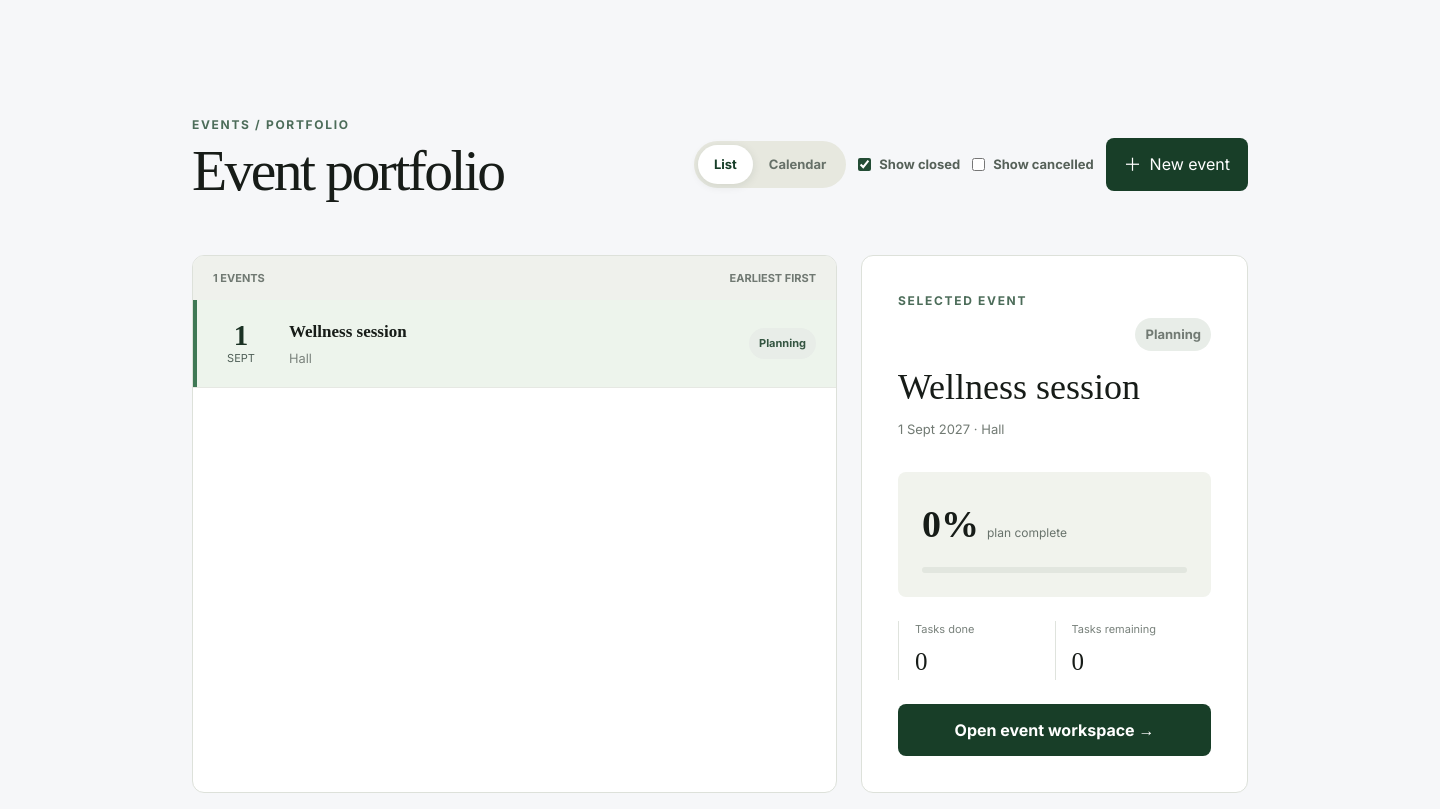
Test case: API-backed organizer events › requires the exact Event name before permanent deletion
Click the button "Open event workspace →": (1054, 730) 898,704 -> 1211,756
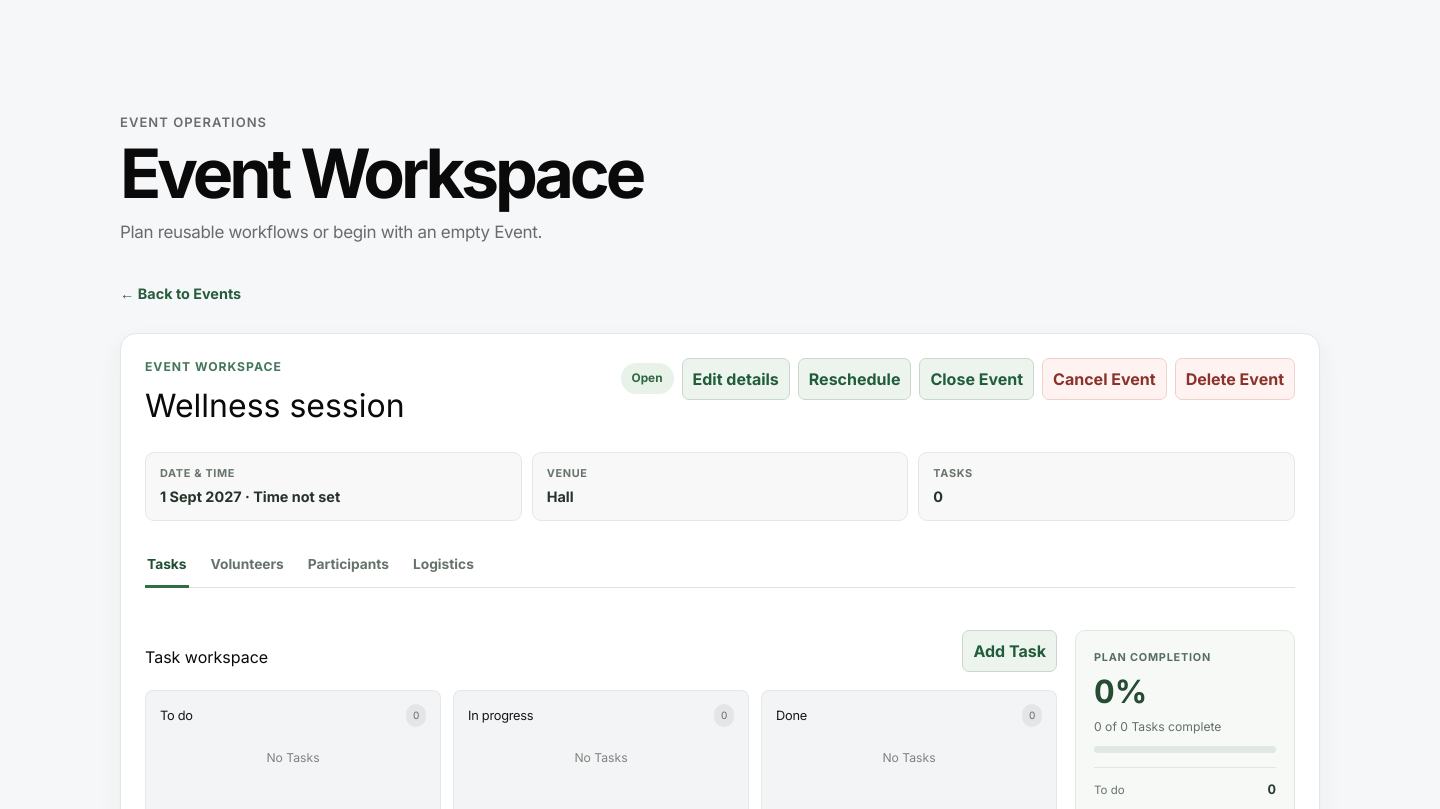
Click the button "Delete Event": (1235, 378) 1175,358 -> 1295,400
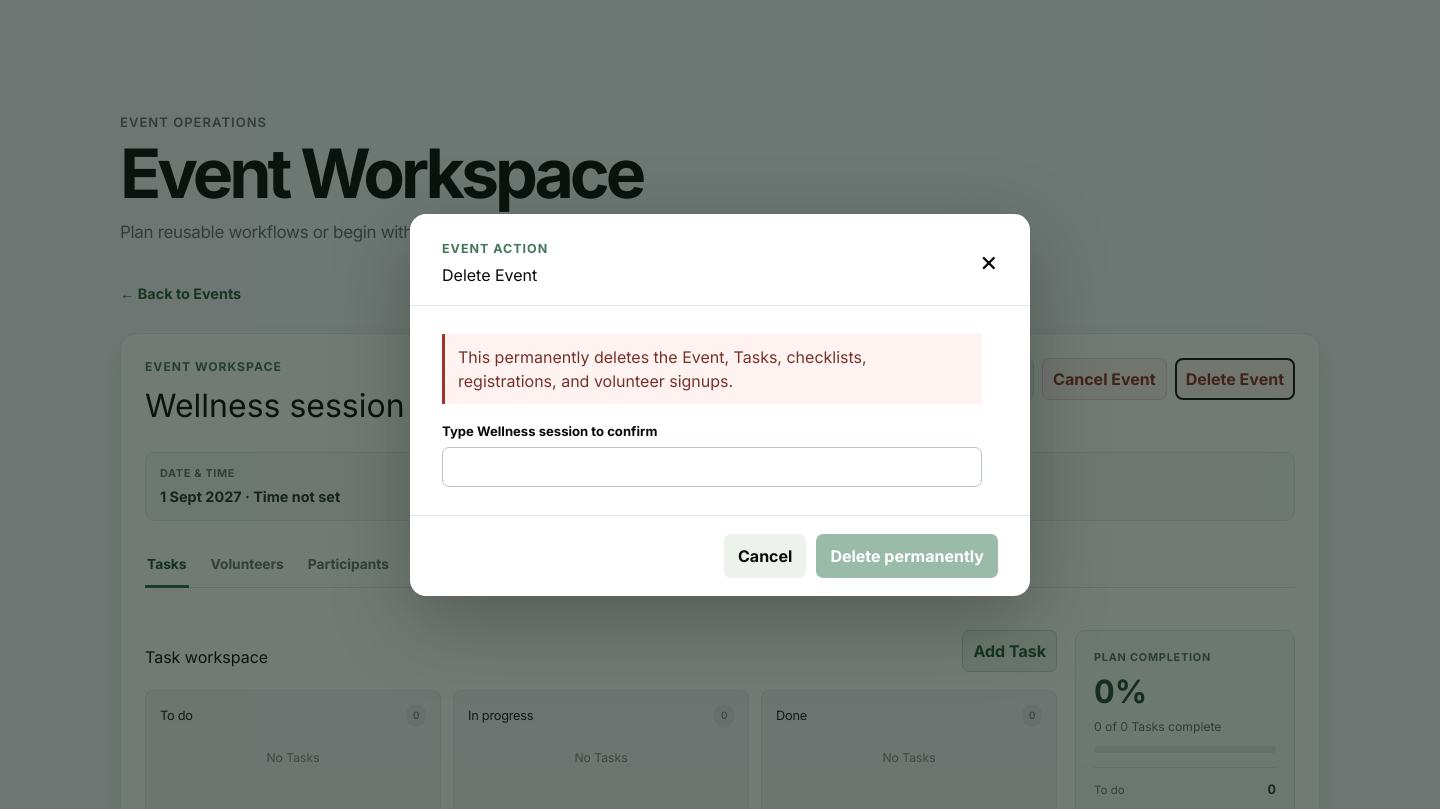
Now the button "Delete permanently" is disabled, box 816,534 -> 998,578
In the field named "Confirm Event name": (712, 467) 442,447 -> 982,487, type "Wellness session"
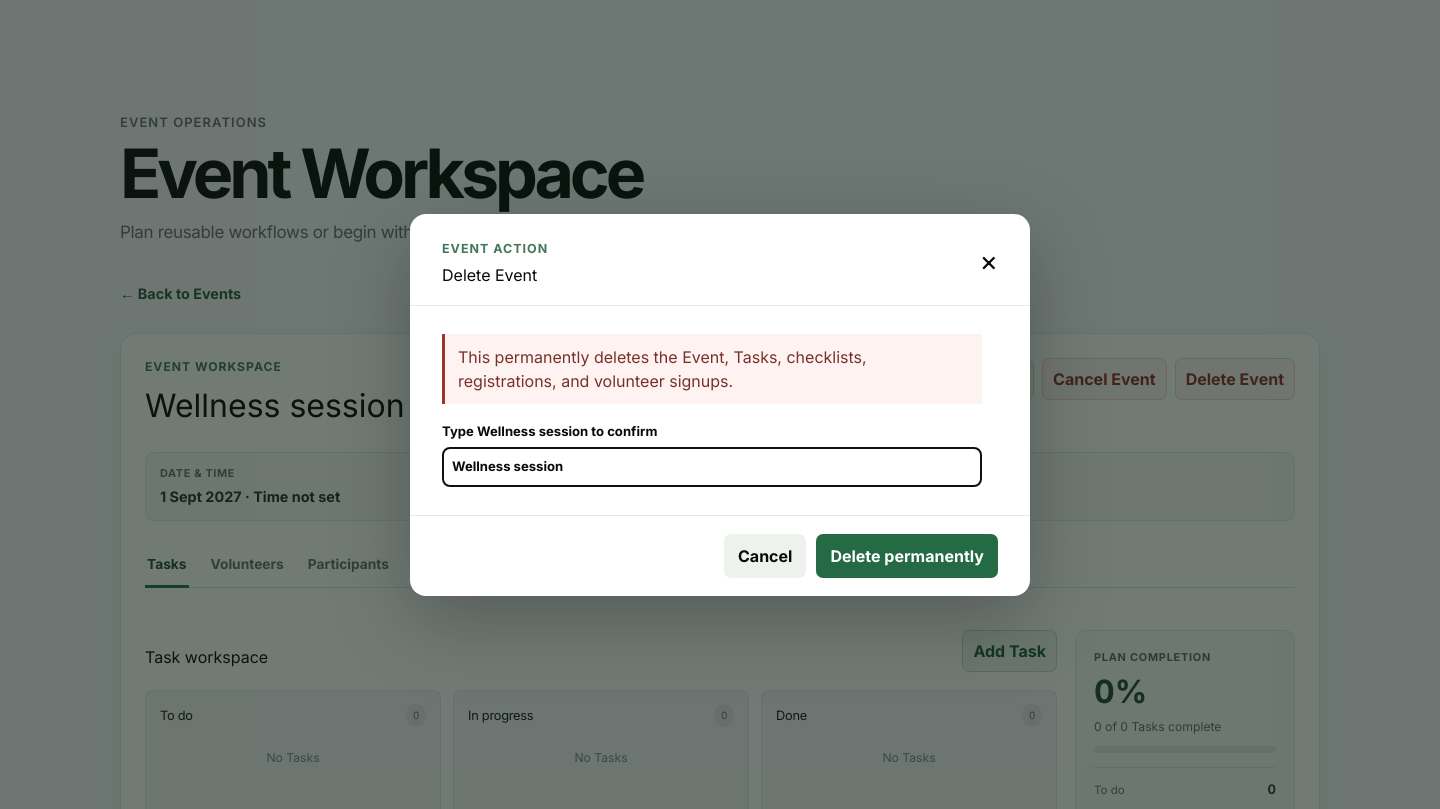
Click the button "Delete permanently": (907, 556) 816,534 -> 998,578
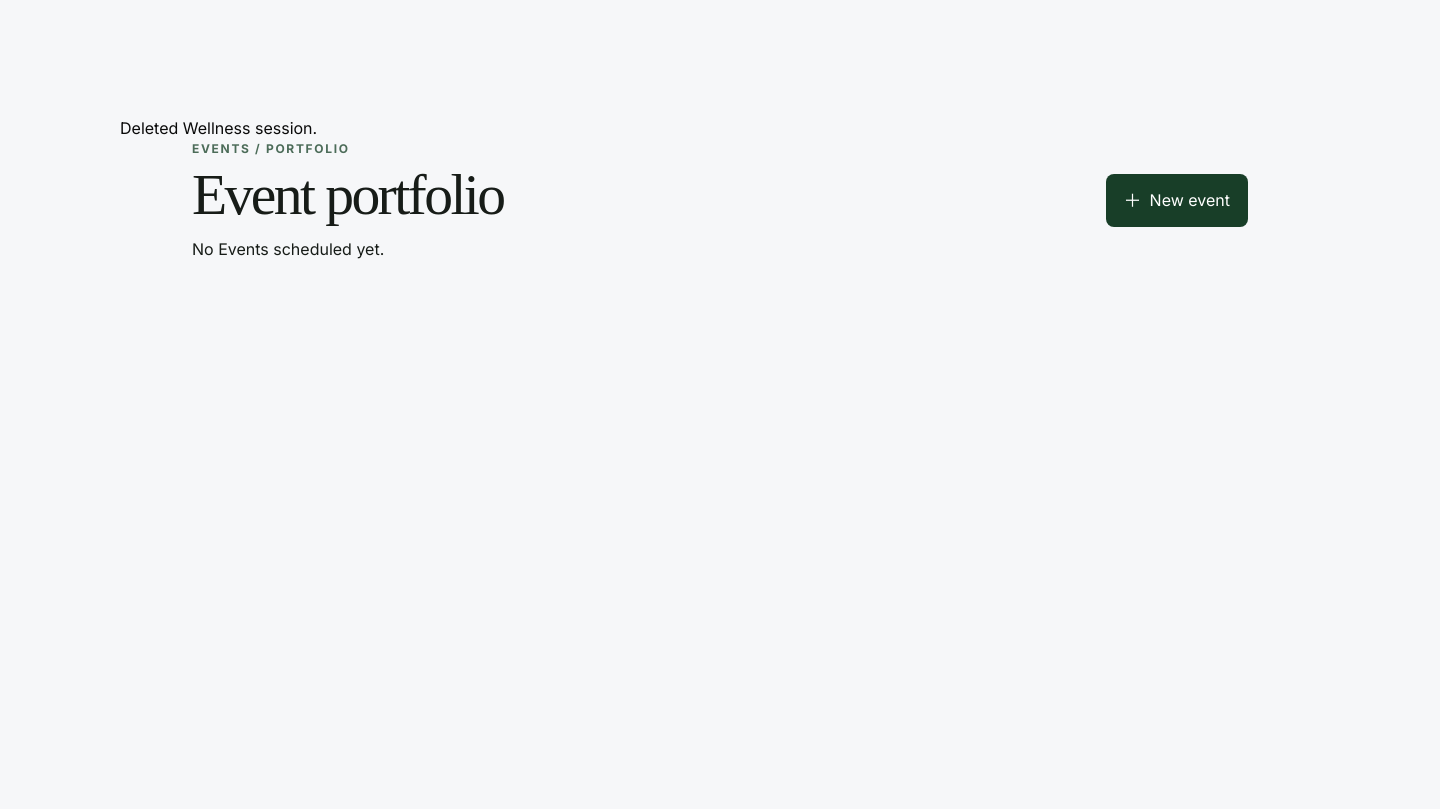
Now the text "Deleted Wellness session." is shown, box 120,118 -> 317,138
